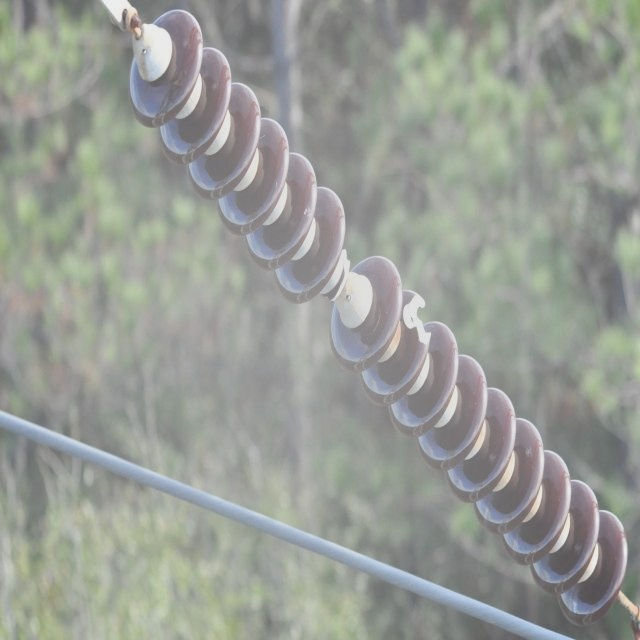broken: (403, 287, 434, 346)
insulator: (126, 4, 627, 624)
